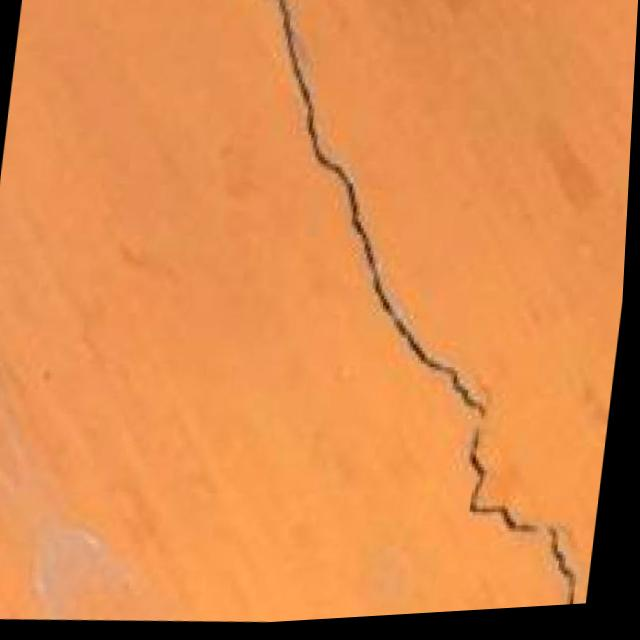Crack: (169, 0, 640, 631)
